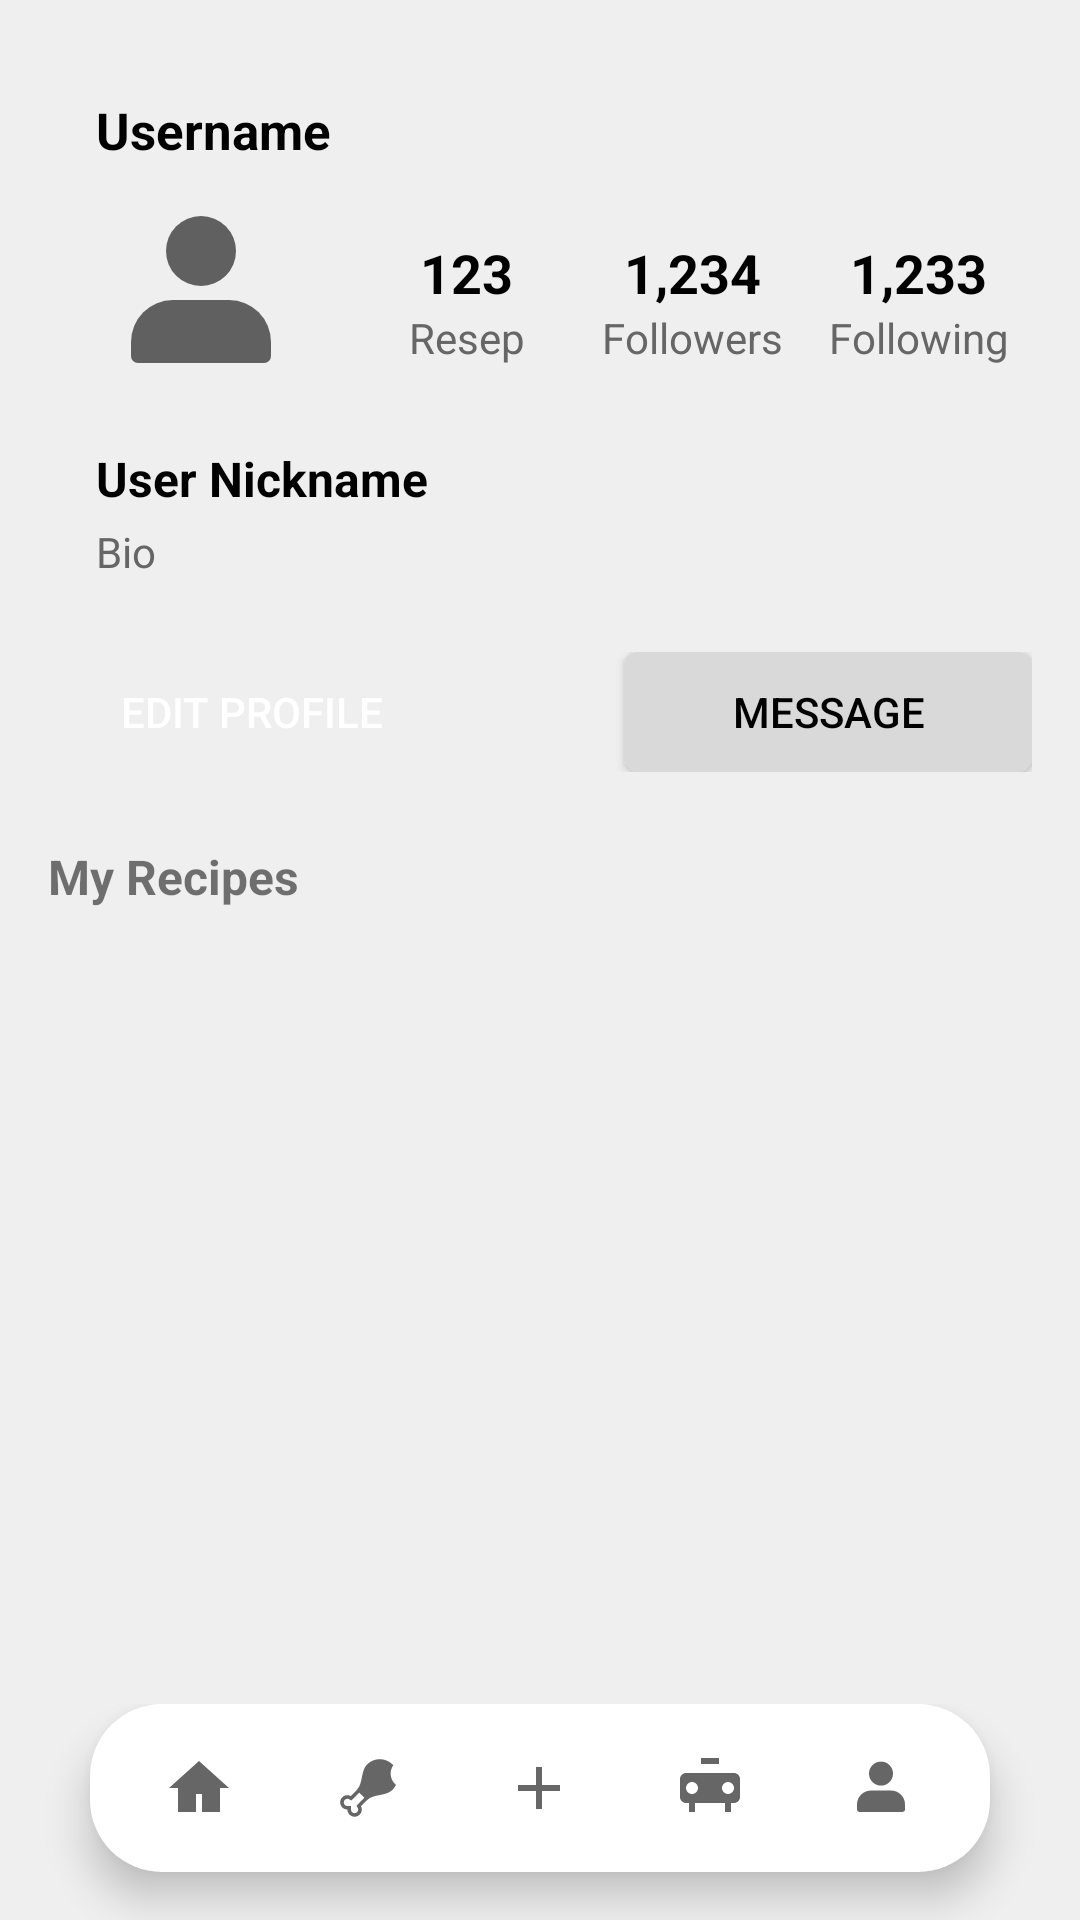

Icon bounding boxes for this 1080×1920 phone screenshot, format bbox=(x1, y1, x2, y2):
add: bbox=(518, 1767, 560, 1809)
food: bbox=(340, 1759, 396, 1817)
home: bbox=(169, 1761, 229, 1812)
profile: bbox=(131, 216, 271, 363), bbox=(857, 1761, 905, 1812)
